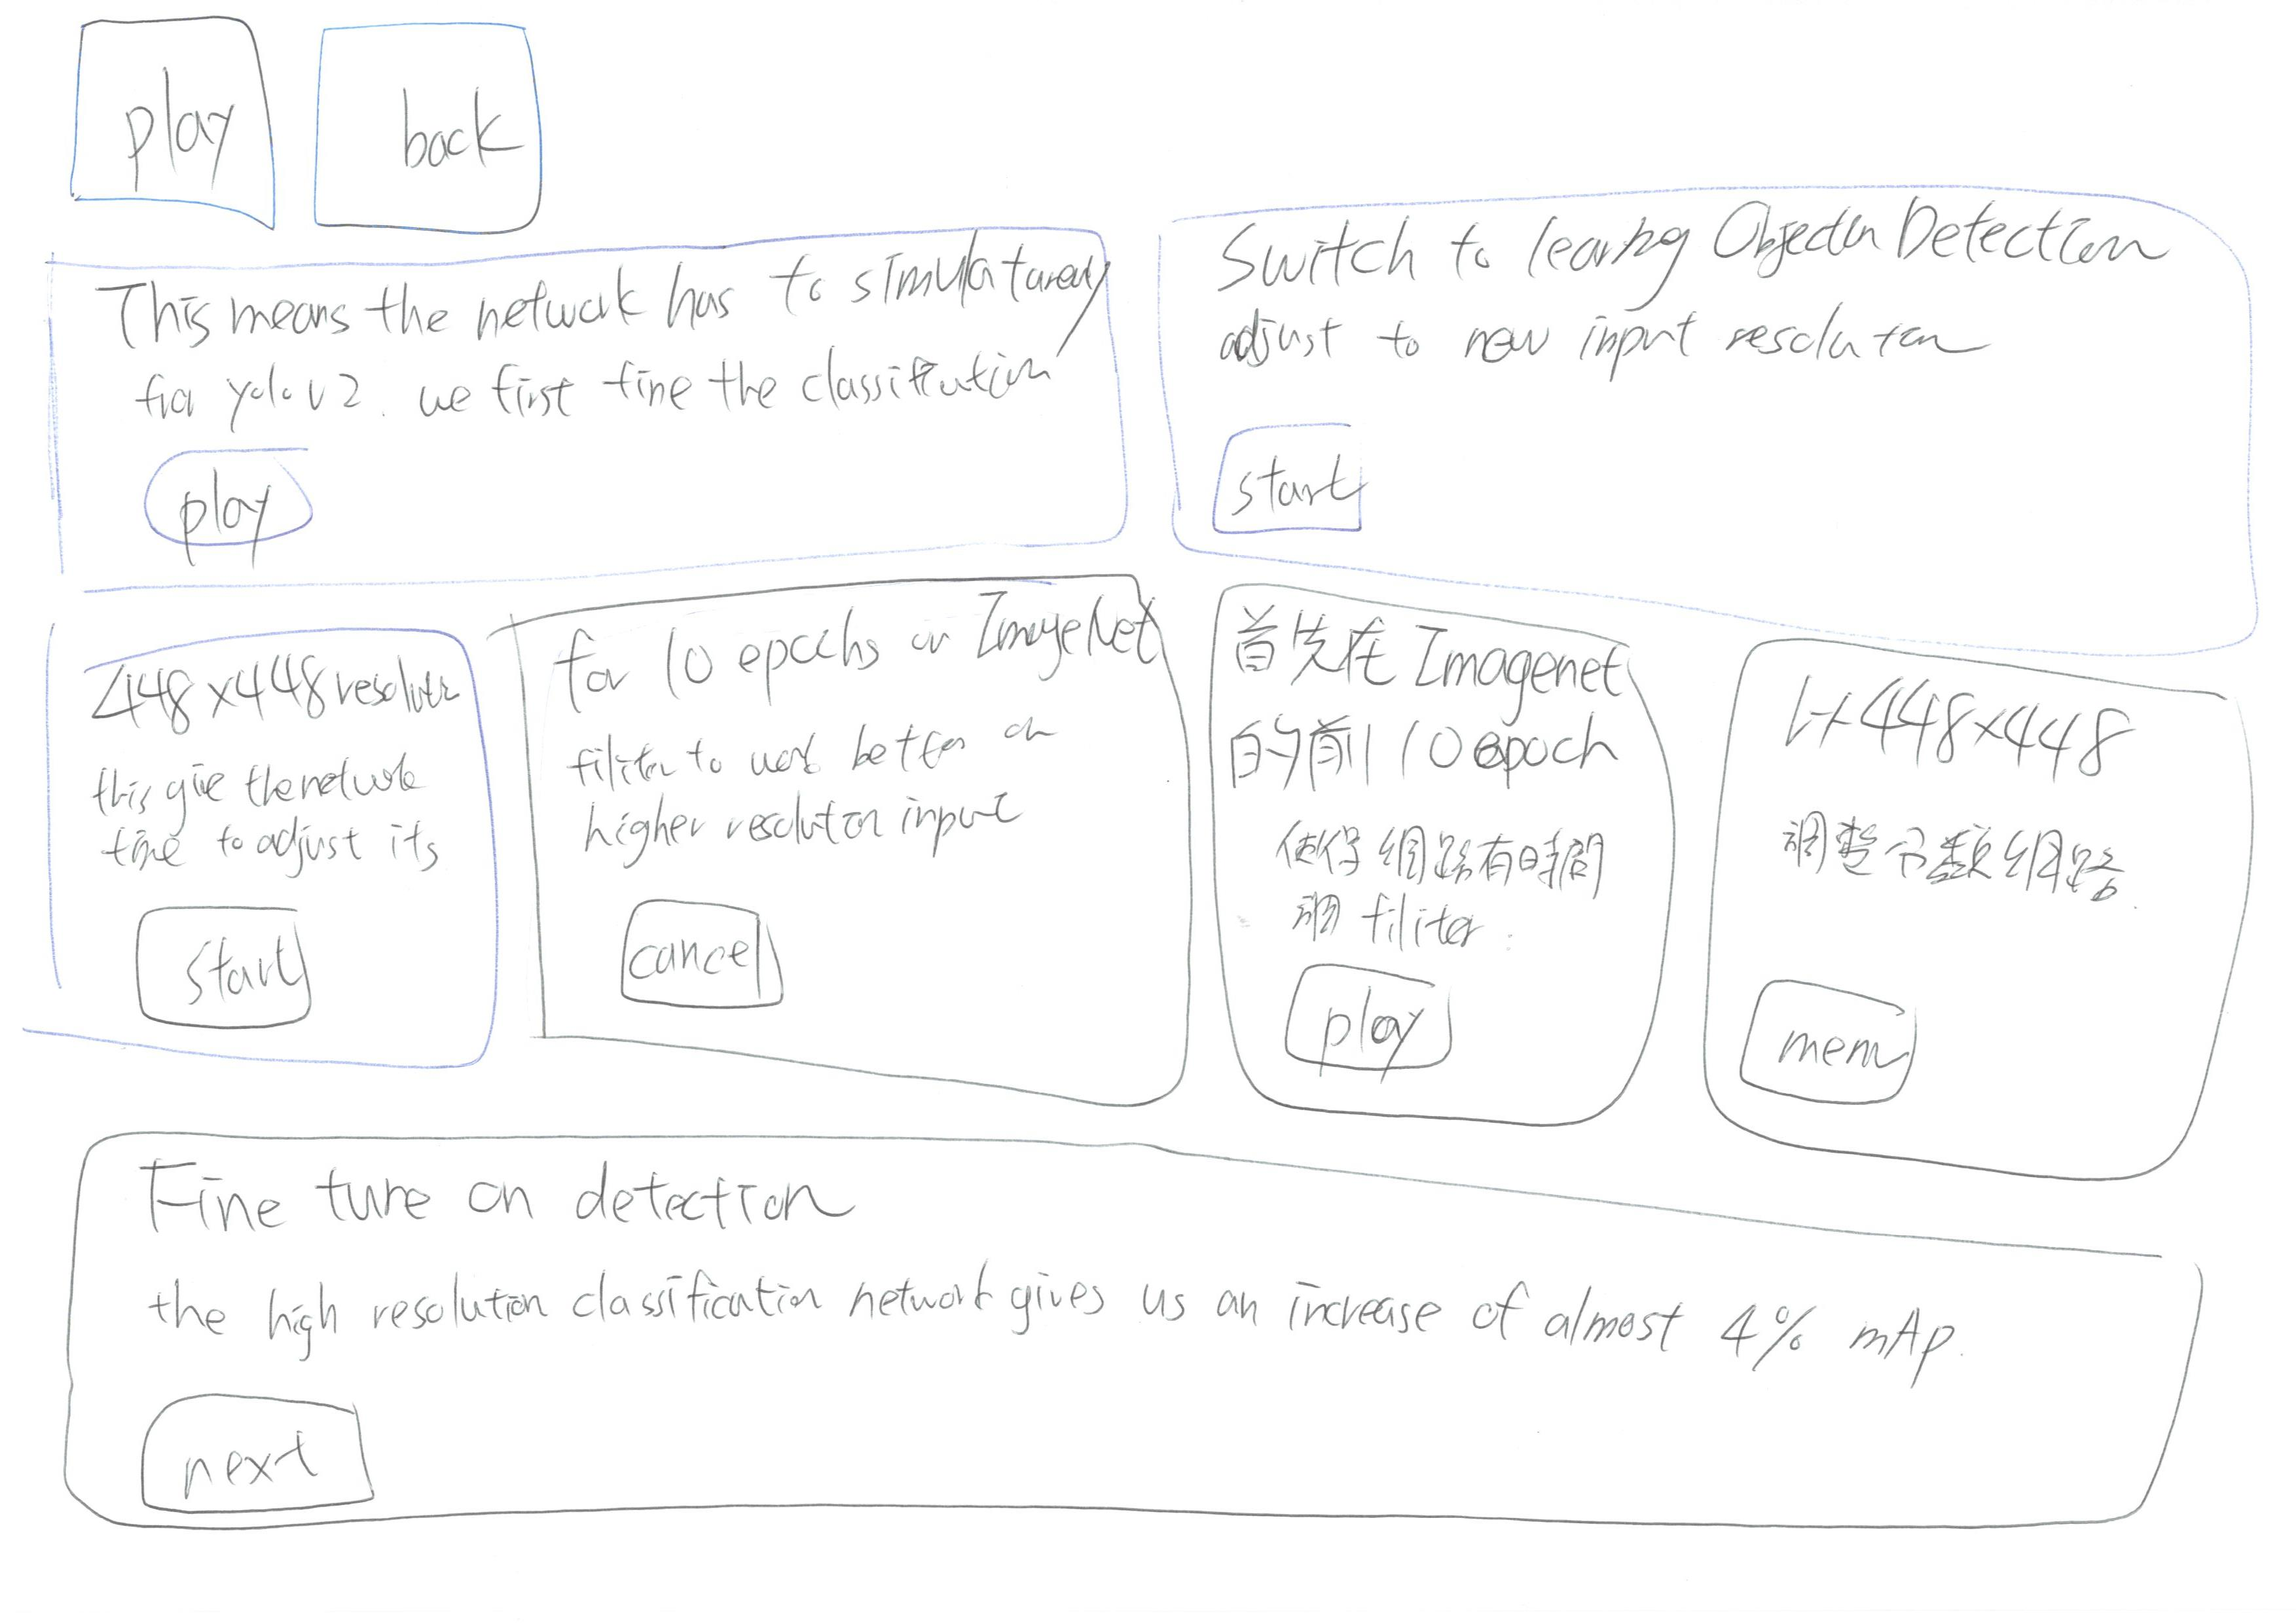back: (285, 2, 577, 255)
cancel: (573, 882, 833, 1033)
double: (1144, 190, 2285, 668), (2, 200, 1144, 610)
menu: (1721, 961, 1934, 1123)
next: (116, 1385, 408, 1513)
play: (14, 0, 301, 246), (109, 438, 357, 582), (1268, 954, 1475, 1088)
quadruple: (44, 1083, 2296, 1608), (482, 552, 1202, 1128), (1681, 603, 2294, 1222), (1190, 562, 1698, 1176), (7, 587, 522, 1107)
row: (5, 554, 2296, 1216), (4, 1084, 2294, 1568), (5, 167, 2296, 631), (4, 0, 2294, 230)
small-title: (100, 246, 1113, 352), (1180, 214, 2176, 302), (1232, 599, 1616, 793), (545, 584, 1157, 701), (123, 1146, 863, 1237), (1784, 671, 2145, 789), (72, 650, 448, 735)
start: (114, 891, 345, 1062), (1185, 410, 1391, 557)
text: (127, 1244, 1946, 1394), (109, 350, 1083, 429), (566, 724, 1099, 868), (1213, 309, 2066, 394), (1296, 814, 1646, 961), (76, 747, 432, 882), (1791, 810, 2157, 919)
